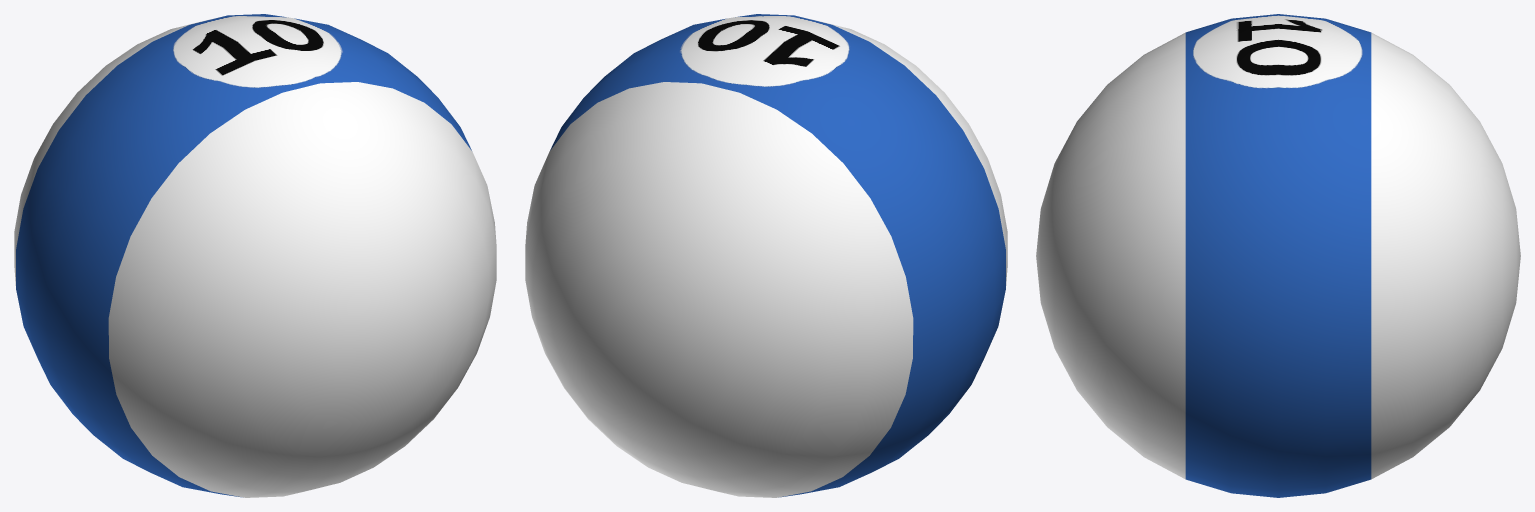
The model's file is 10Ball.glb.
The picture shows the model from 3 angles, left to right: view 1: azimuth 30°, elevation 25°; view 2: azimuth 150°, elevation 25°; view 3: azimuth 270°, elevation 25°; orthographic projection.
Parts seen in each view (by area): view 1: SphereStriped; view 2: SphereStriped; view 3: SphereStriped.
Boxes of the visible parts, x1=… form: SphereStriped: x1=14, y1=14, x2=496, y2=497; SphereStriped: x1=525, y1=14, x2=1007, y2=497; SphereStriped: x1=1036, y1=14, x2=1520, y2=497.
Bounding box in the file's own units: 0.1991 × 0.1991 × 0.2.
1 material, 1 textured.
